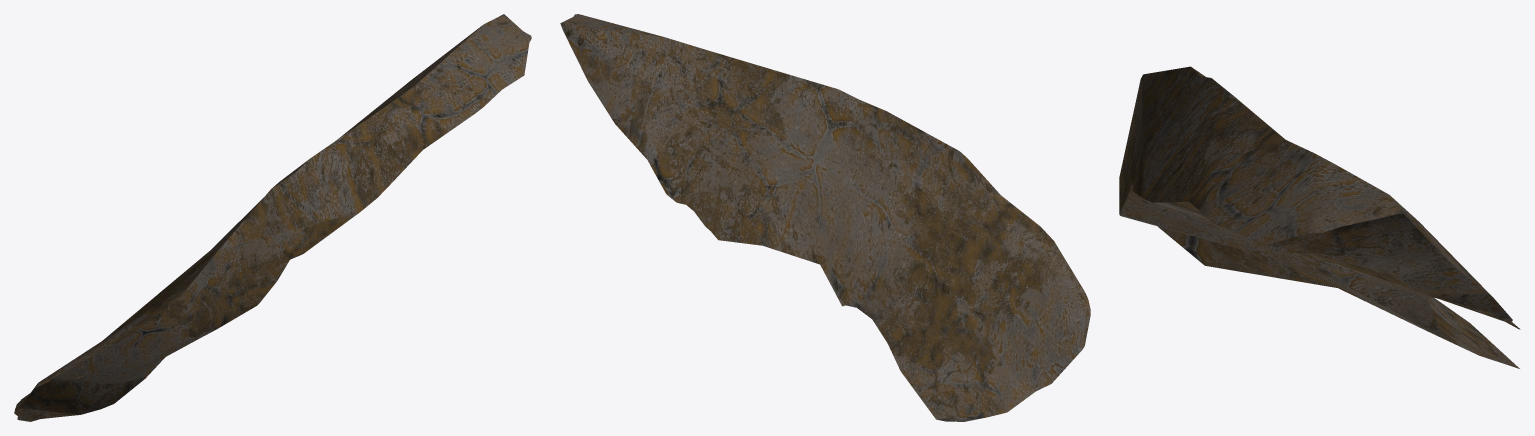
Rendered from RockShard13.fbx.
3 renders of one model, left to right at view 1: azimuth 30°, elevation 25°; view 2: azimuth 150°, elevation 25°; view 3: azimuth 270°, elevation 25°, orthographic. The views are drawn at different scales.
Parts seen in each view (by area): view 1: RockShard13; view 2: RockShard13; view 3: RockShard13.
Part boxes in pixels (x1,y1,x2,y2): RockShard13: [14, 14, 531, 421]; RockShard13: [560, 14, 1090, 421]; RockShard13: [1119, 66, 1520, 368].
Size of the model in its own units: 128 by 68.37 by 44.72.
